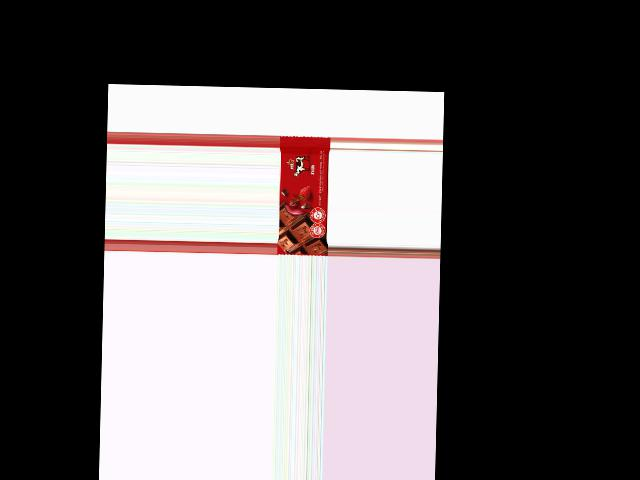chocolate: (277, 135, 331, 254)
